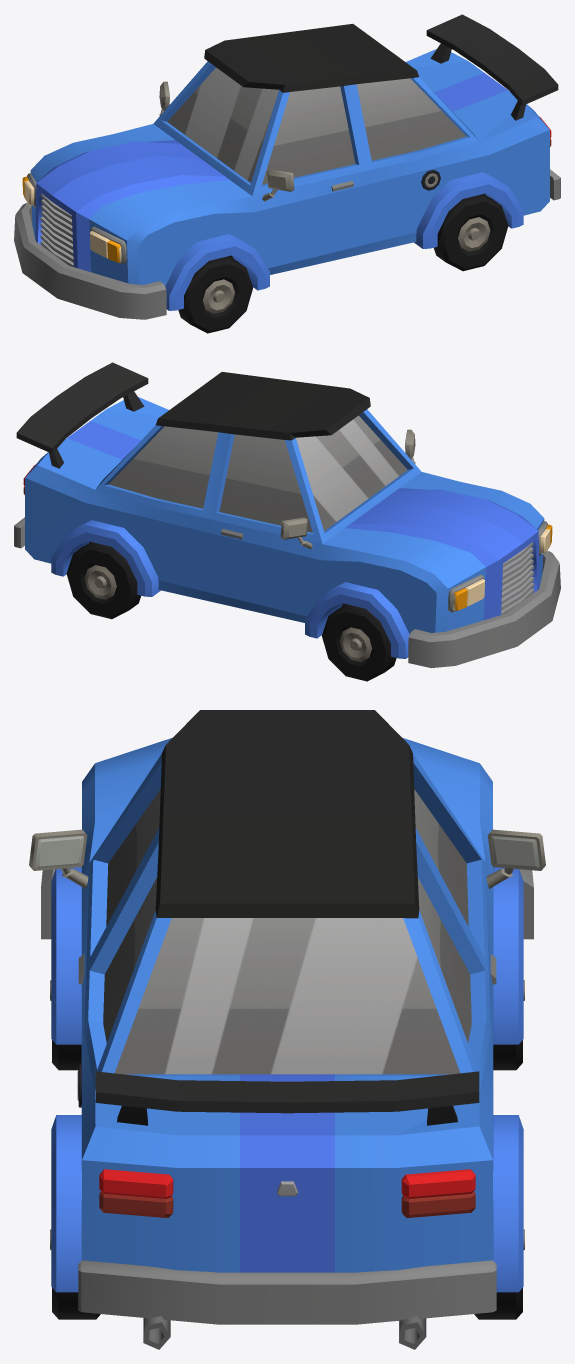
Rendered from Car_1_H.gltf.
The picture shows the model from 3 angles, top to bottom: view 1: azimuth 30°, elevation 25°; view 2: azimuth 150°, elevation 25°; view 3: azimuth 270°, elevation 25°; orthographic projection. The views are drawn at different scales.
Visible parts, largest first — view 1: Car_1_H, RL, FL; view 2: Car_1_H, RR, FR; view 3: Car_1_H, RL, RR, FR, FL.
Part boxes in pixels (x1,y1,x2,y2): Car_1_H: (14,14,560,319); RL: (434,194,508,271); FL: (178,256,252,333); Car_1_H: (14,362,560,668); RR: (66,542,140,619); FR: (322,604,396,681); Car_1_H: (29,710,545,1349); RL: (50,1229,100,1319); RR: (474,1229,524,1319); FR: (493,980,524,1070); FL: (50,980,81,1070).
Bounding box in the file's own units: 3.64 × 1.5 × 1.7.
4 materials, 4 textured.
